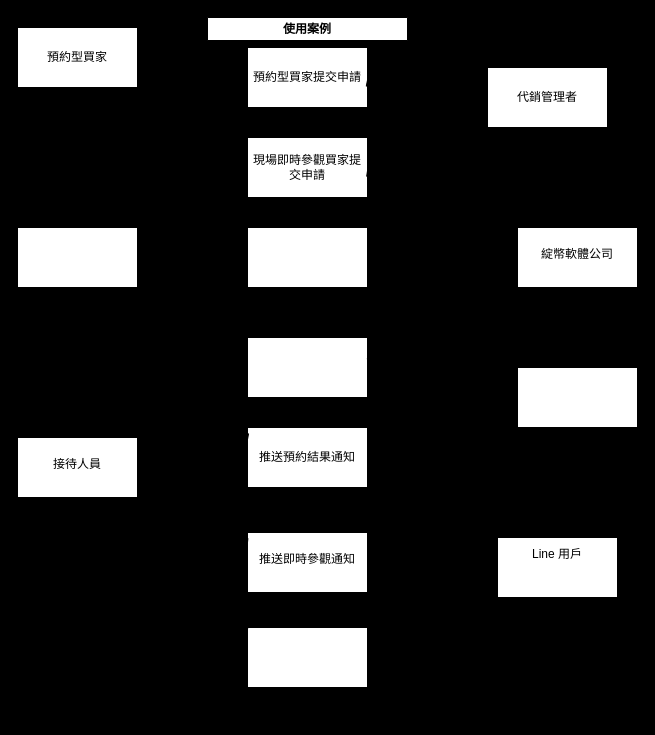
Some shapes in this 655 by 735 pixel diagram are drawn without their labels. The shapes that lost their labels are listed below. From the top down, each one's centre as x and y in pixels, then its label:
the point at 77,257: 現場即時參觀買家
the point at 307,257: 管理者審核申請
the point at 307,367: 時程安排
the point at 577,397: 系統訪談人員
the point at 307,657: 重新提交預約申請
